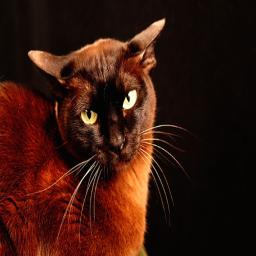catnose: (105, 124, 126, 154)
